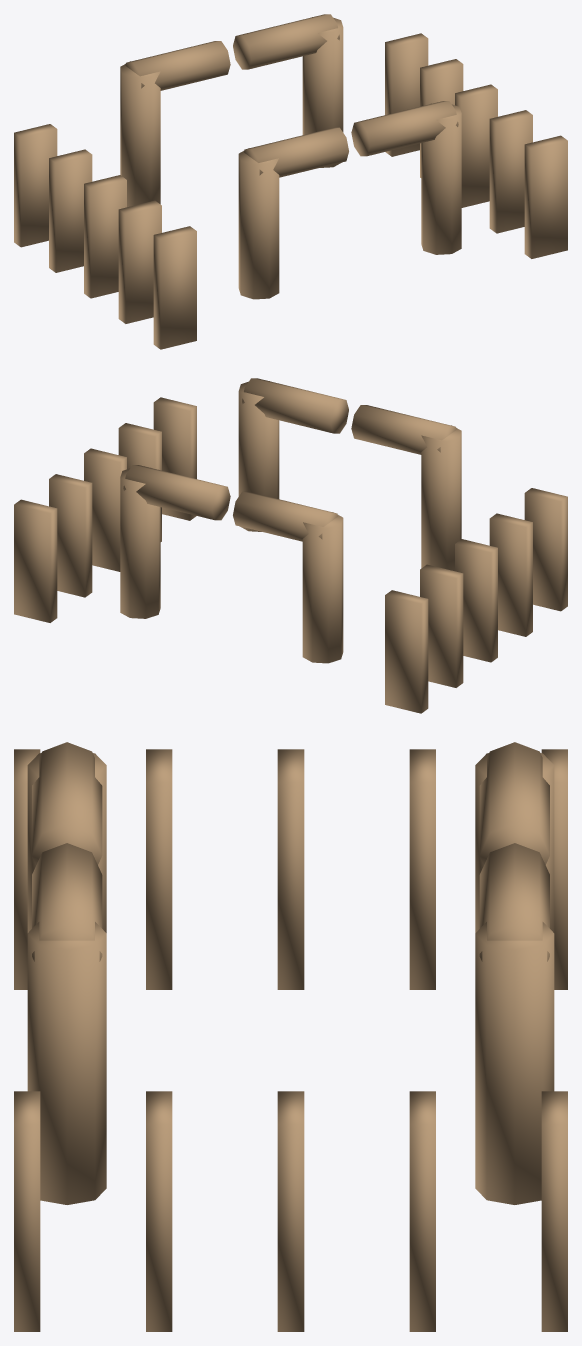
File: thermo_generator_pipes.glb
3 renders of one model, top to bottom at view 1: azimuth 30°, elevation 25°; view 2: azimuth 150°, elevation 25°; view 3: azimuth 270°, elevation 25°, orthographic. The views are drawn at different scales.
Visible parts, largest first — view 1: thermo_generator_pipes; view 2: thermo_generator_pipes; view 3: thermo_generator_pipes.
Part boxes in pixels (x1,y1,x2,y2): thermo_generator_pipes: (14, 14, 567, 349); thermo_generator_pipes: (14, 378, 567, 713); thermo_generator_pipes: (14, 742, 567, 1331).
Size of the model in its own units: 1.01 by 0.39 by 0.63.
